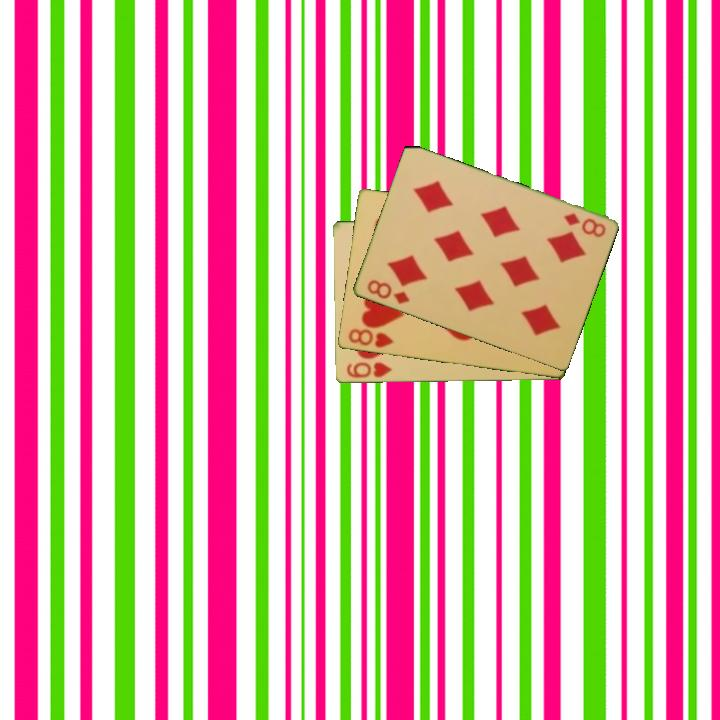6h: (343, 359, 394, 381)
8d: (363, 276, 413, 307), (560, 209, 608, 240)
8h: (345, 325, 397, 351)
